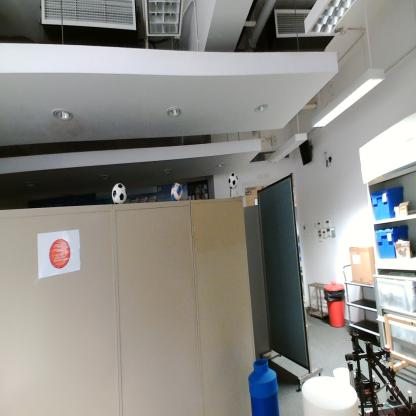ball: (111, 183, 127, 204), (170, 181, 182, 200), (229, 172, 238, 190)
